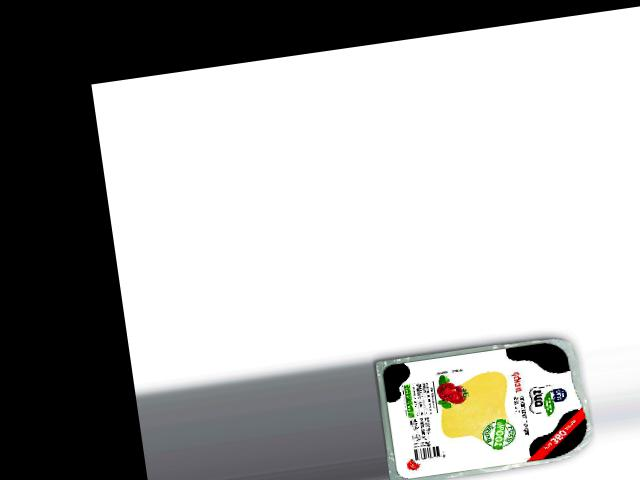cheese: (373, 332, 598, 480)
